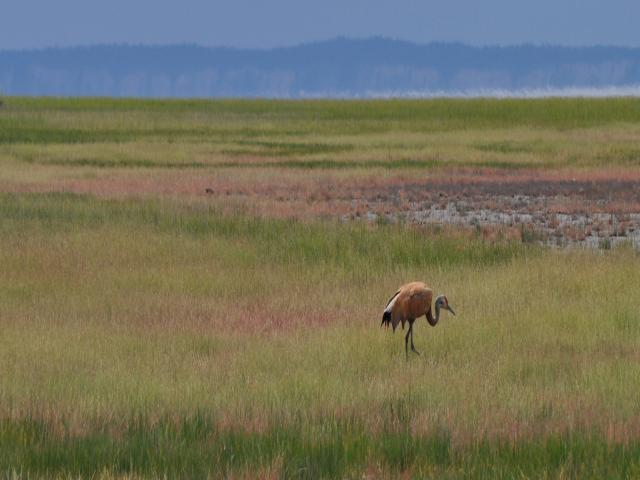Bird: (381, 279, 457, 363)
